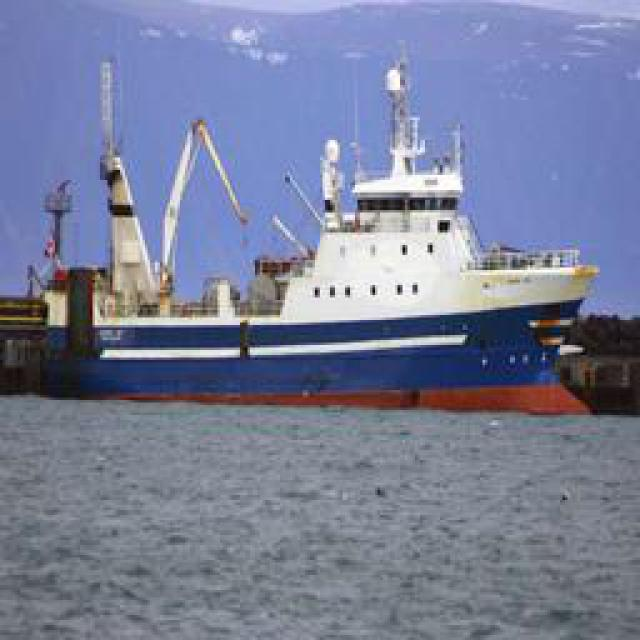Ship: (55, 35, 600, 398)
